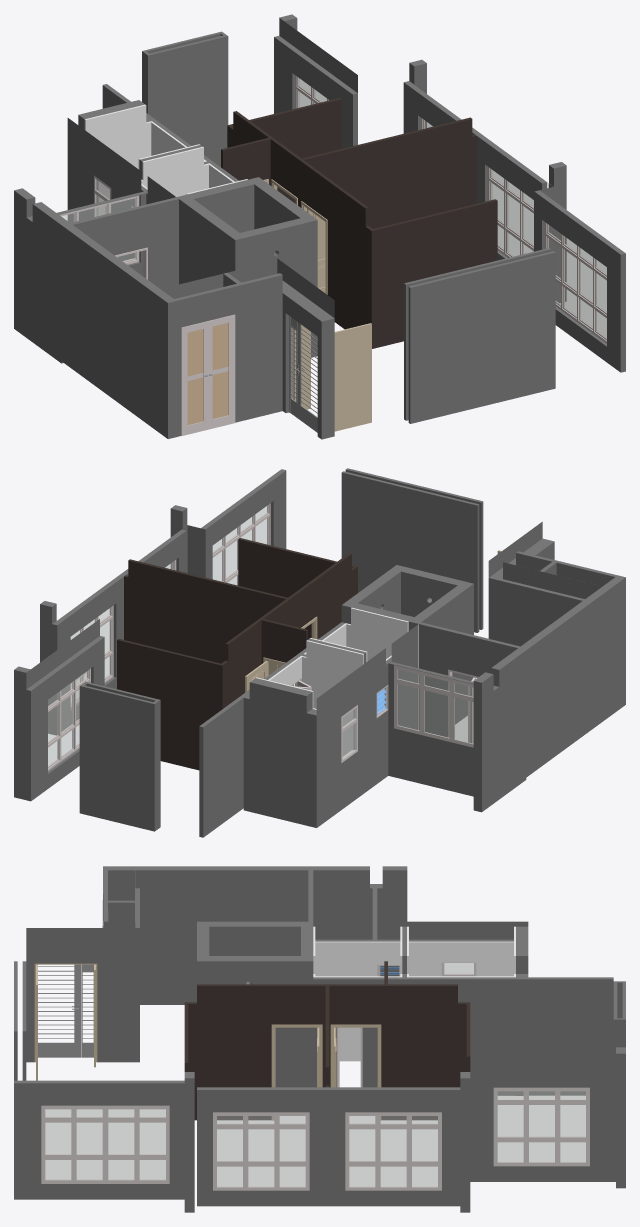
File: IFC_SG_Training_Model_Archi_-_AC_27_Wall.glb
3 renders of one model, top to bottom at view 1: azimuth 30°, elevation 25°; view 2: azimuth 150°, elevation 25°; view 3: azimuth 270°, elevation 25°, orthographic. The views are drawn at different scales.
Visible parts, largest first — view 1: Fake; view 2: Fake; view 3: Fake.
Boxes of the visible parts, x1=… form: Fake: x1=14, y1=14, x2=625, y2=439; Fake: x1=14, y1=468, x2=625, y2=837; Fake: x1=14, y1=866, x2=625, y2=1212.
Bounding box in the file's own units: 10.15 × 3.05 × 12.37.
